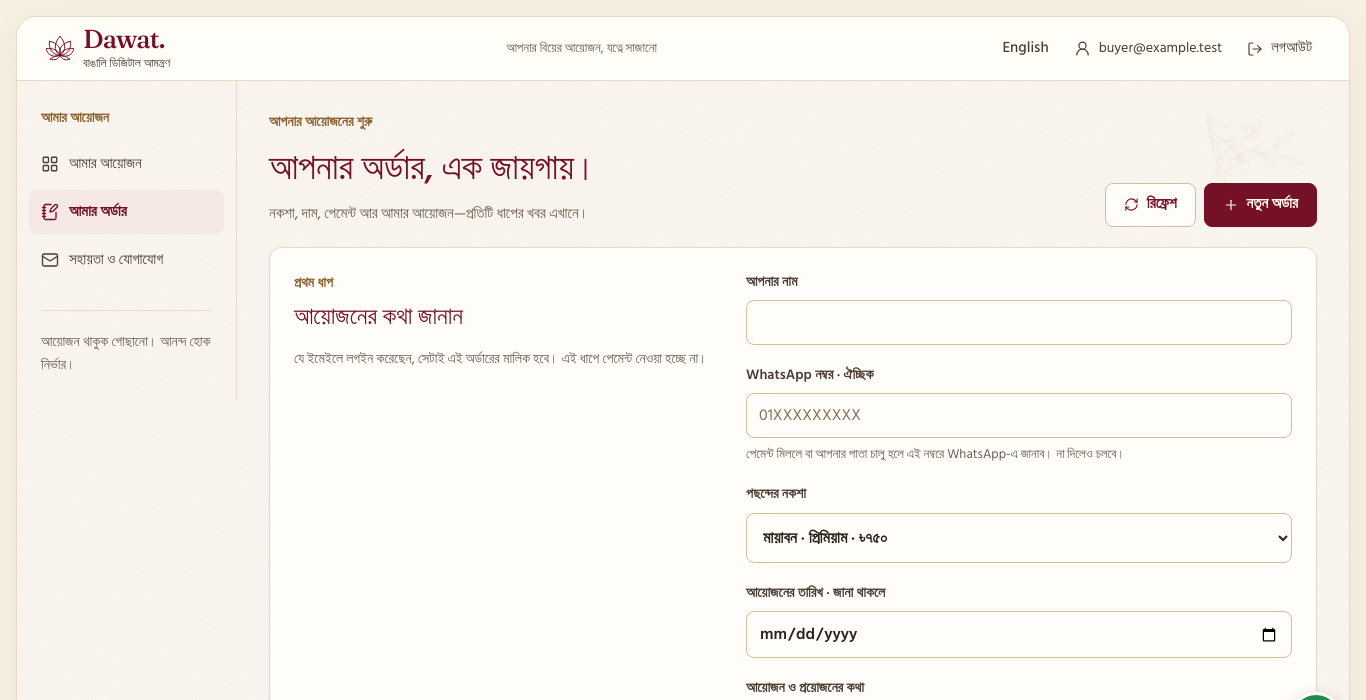
Scenario: sends the optional WhatsApp number typed on the request form and keeps it in the draft
Type "রাইহান" into the field labelled "আপনার নাম".
click(1019, 322); type("রাইহান")  # box [746,300,1292,345]
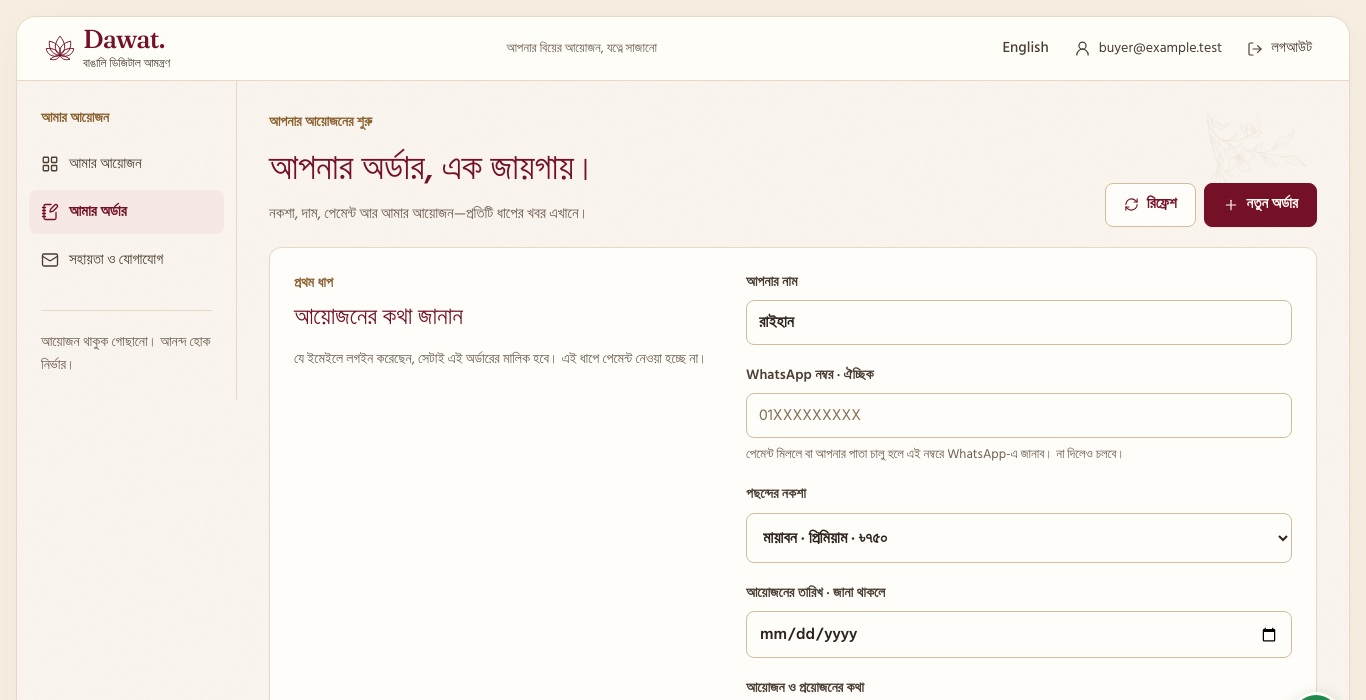
Type "০১৭১২৩৪৫৬৭৮" into the field labelled "WhatsApp নম্বর".
click(1019, 415); type("০১৭১২৩৪৫৬৭৮")  # box [746,393,1292,438]
(page scrolled)
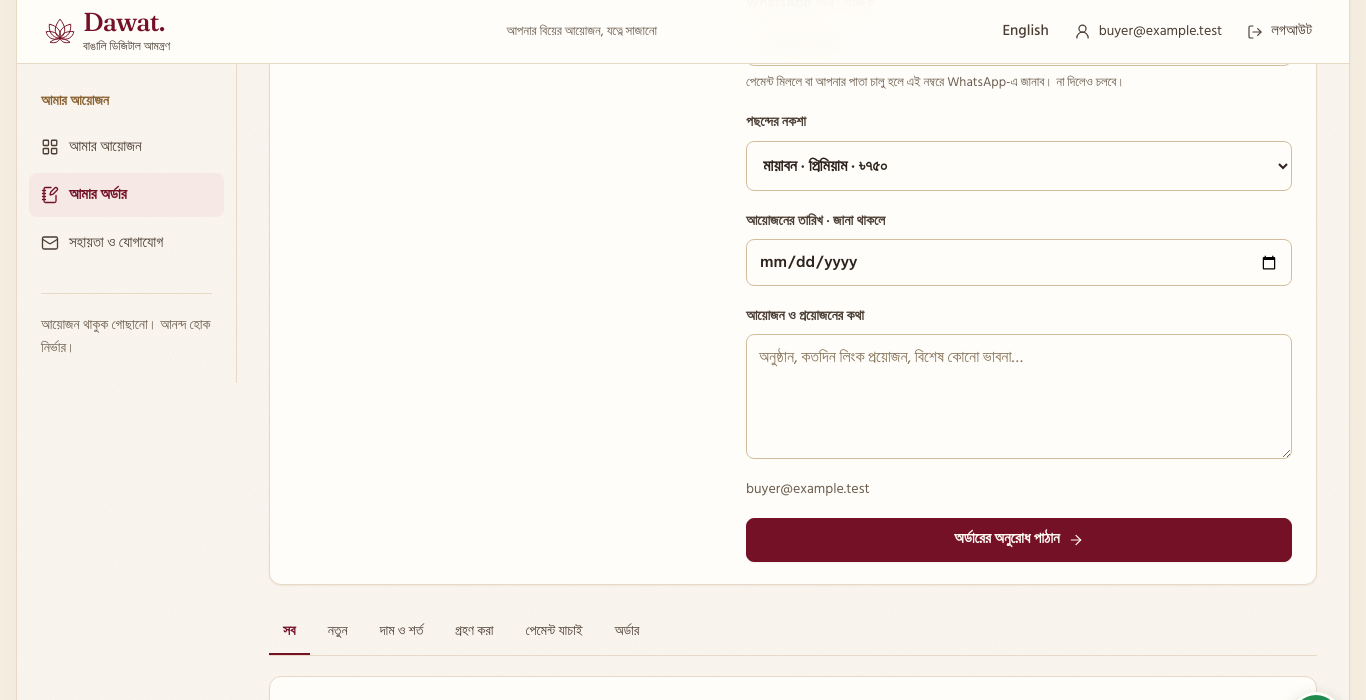
Type "A fictional celebration." into the text box labelled "আয়োজন ও প্রয়োজনের কথা".
click(1019, 396); type("A fictional celebration.")  # box [746,334,1292,459]
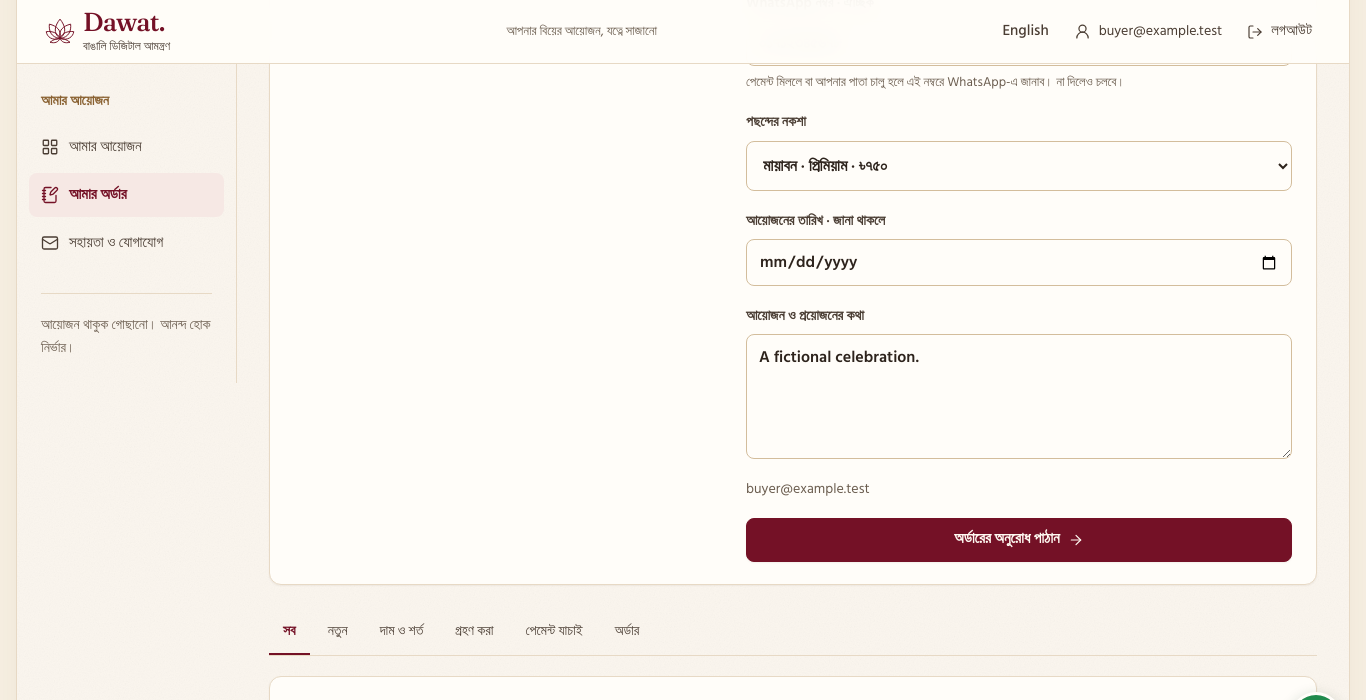
Click the button "অর্ডারের অনুরোধ পাঠান".
click(1019, 540)  # box [746,518,1292,562]
(page scrolled)
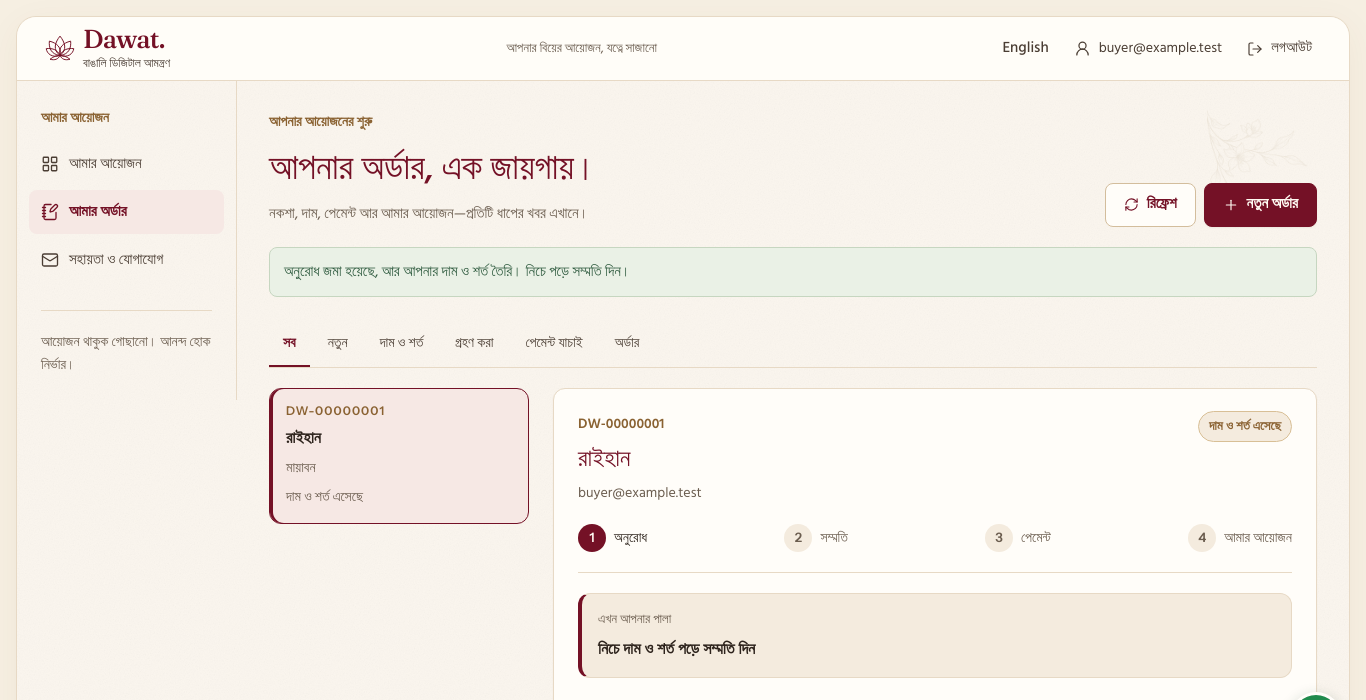
Result: the message shows "দাম ও শর্ত তৈরি" at [284,259,631,284]
